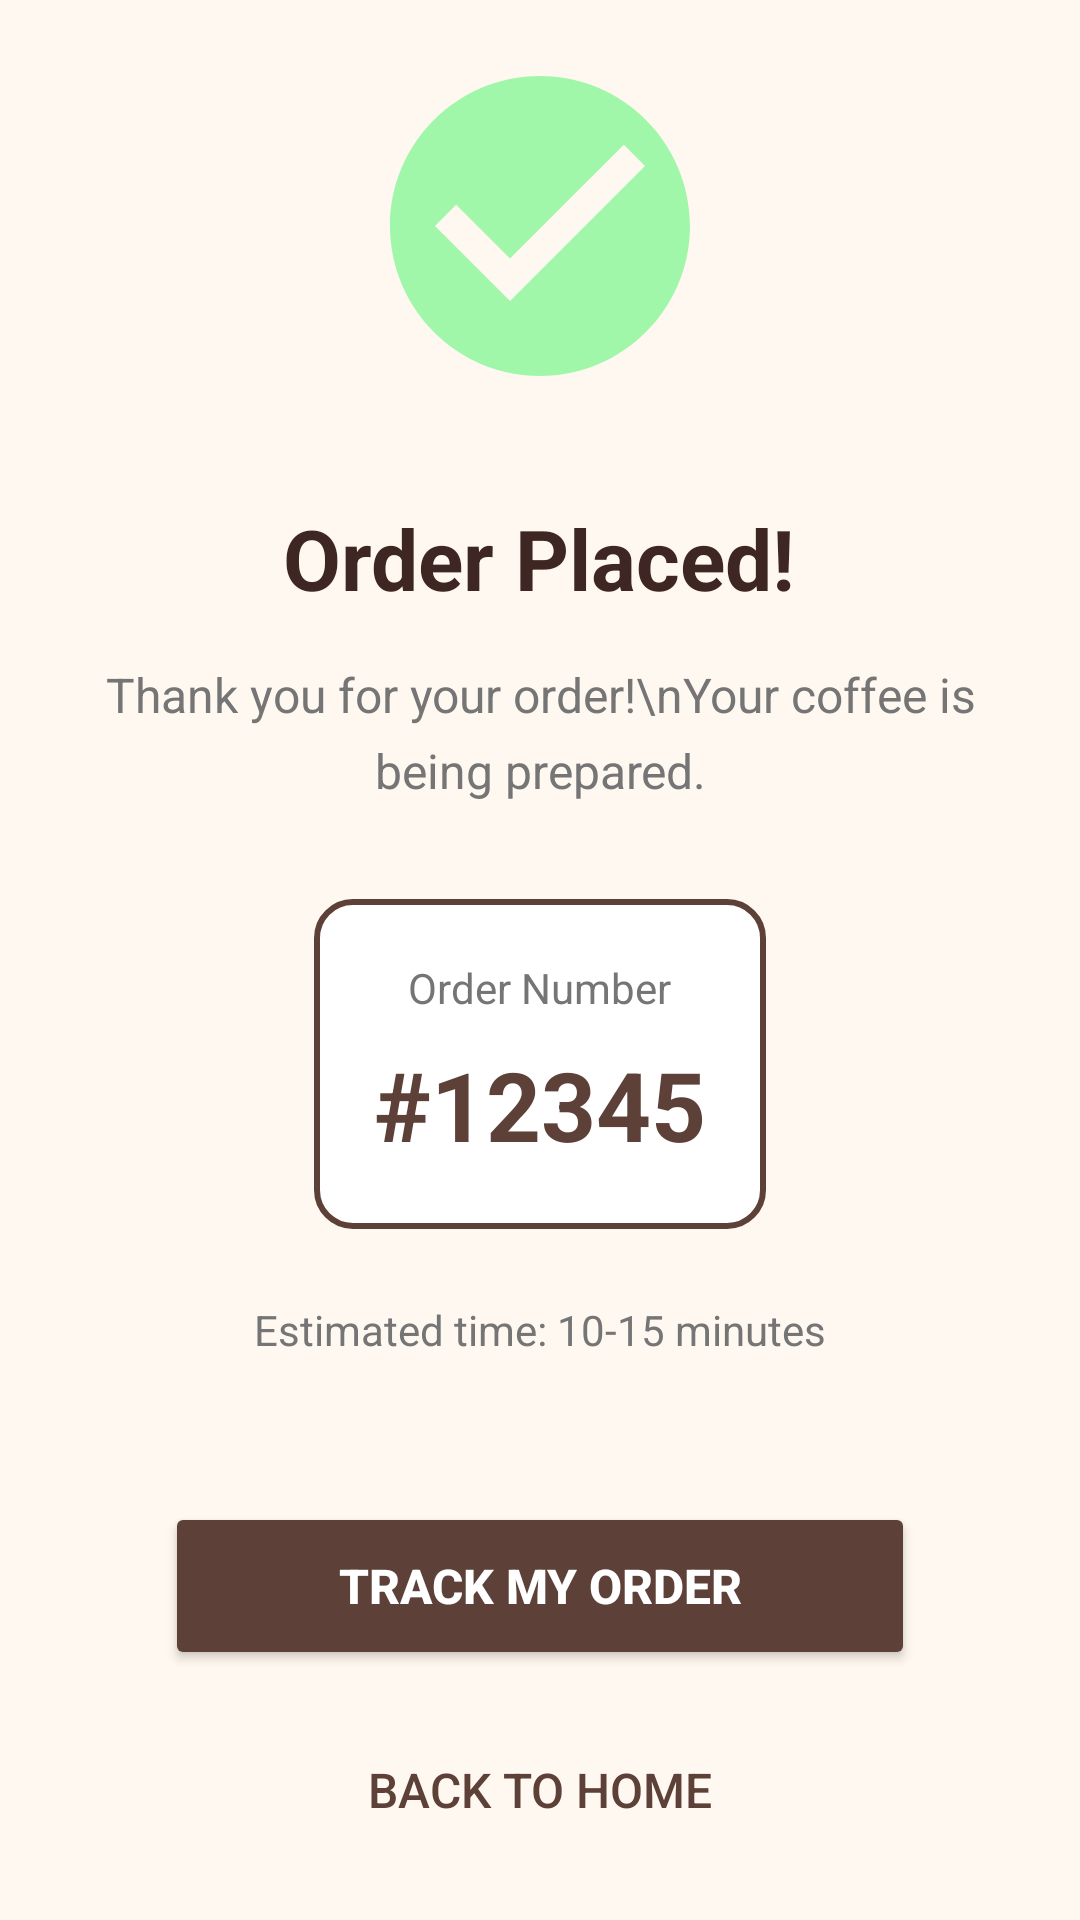

Icons on this 1080px×1920px Android screen, each with the point to tap as (x,y):
Success: (540,226)
